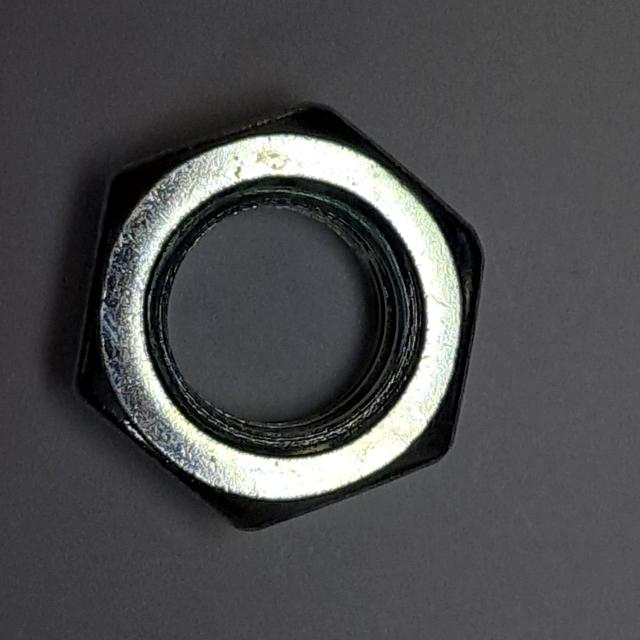Excellent: (60, 94, 493, 540)
